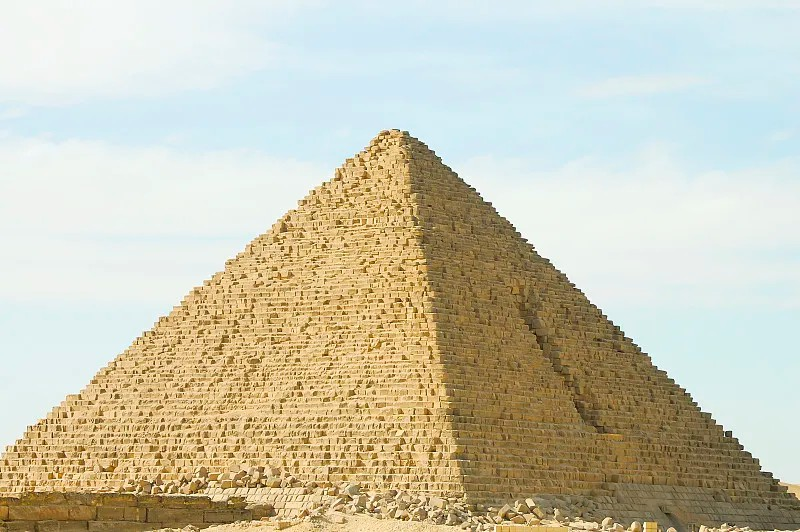Pyramid: (2, 129, 798, 532)
